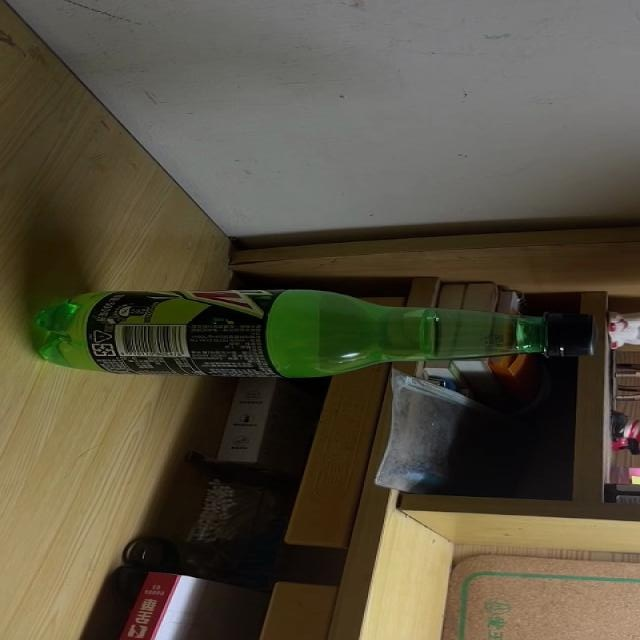Mountain-Dew: (30, 290, 598, 377)
